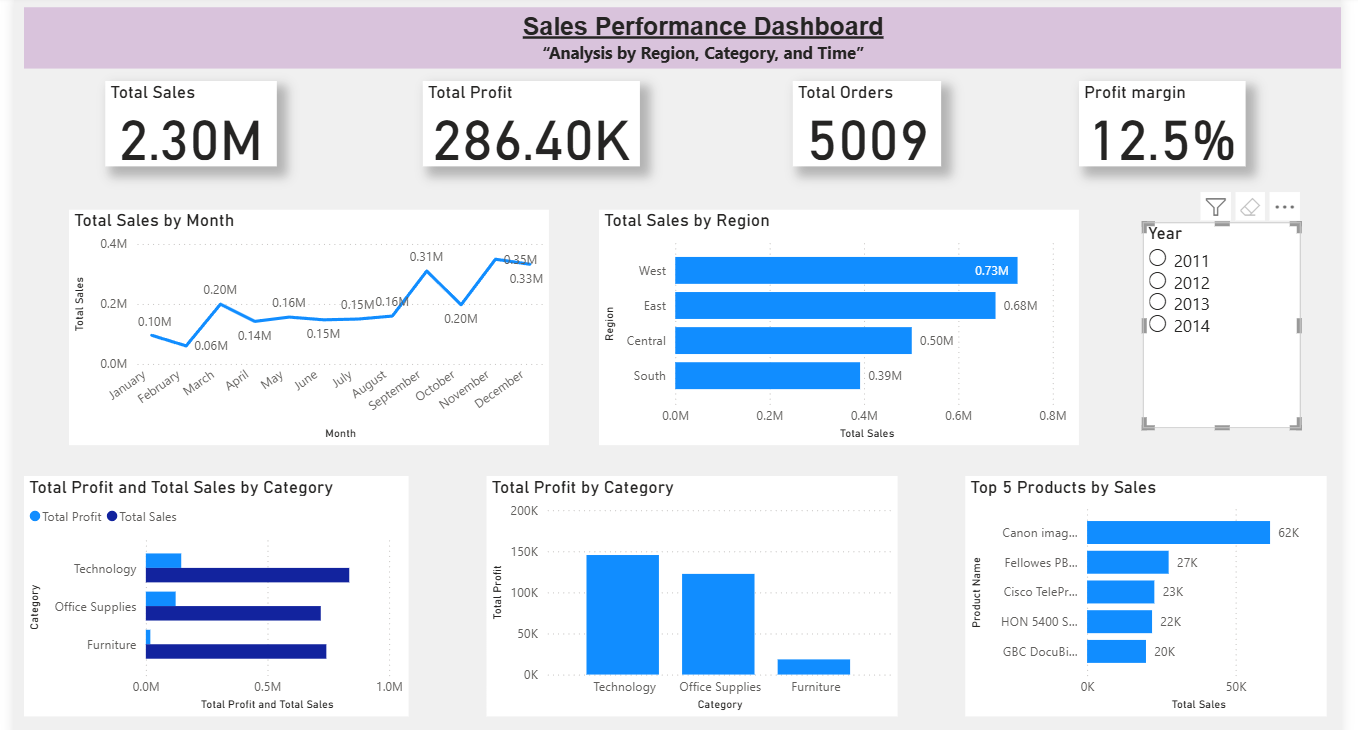

What the dashboard file says about the page in this screenshot:
{"tool":"powerbi","page":{"name":"Page 1","canvas":[1280,720],"ordinal":0},"visuals":[{"type":"textbox","box":[9.6,11,1271,59],"z":0},{"type":"card","title":"Total Orders","fields":{"Values":["Superstore.Total Orders"]},"box":[751.6,82,143.6,82],"z":1000},{"type":"card","title":"Profit margin","fields":{"Values":["Superstore.Profit Margin"]},"box":[1027.9,82,160.5,82],"z":2000},{"type":"card","title":"Total Profit","fields":{"Values":["Superstore.Total Profit"]},"box":[394.5,82,209.9,82],"z":3000},{"type":"card","title":"Total Sales","fields":{"Values":["Superstore.Total Sales"]},"box":[88.1,82,165.3,82],"z":4000},{"type":"lineChart","fields":{"Y":["Superstore.Total Sales"],"Category":["Superstore.Order Date.Variation.Date Hierarchy.Month"]},"box":[53.1,206.3,463.3,226.8],"z":5000},{"type":"clusteredBarChart","fields":{"Y":["Superstore.Total Sales"],"Category":["Superstore.Region"]},"box":[564.6,206.3,463.3,226.8],"z":6000},{"type":"clusteredBarChart","fields":{"Category":["Superstore.Category"],"Y":["Superstore.Total Profit","Superstore.Total Sales"]},"box":[9.7,463.3,371.6,231.6],"z":7000},{"type":"clusteredColumnChart","fields":{"Category":["Superstore.Category"],"Y":["Superstore.Total Profit"]},"box":[456,463.3,396.9,231.6],"z":8000},{"type":"listSlicer","fields":{"Values":["Superstore.Order Date.Variation.Date Hierarchy.Year"]},"box":[1089.4,218.4,152,199.1],"z":9000},{"type":"clusteredBarChart","title":"Top 5 Products by Sales","fields":{"Category":["Superstore.Product Name"],"Y":["Superstore.Total Sales"]},"box":[918.1,463.3,348.7,231.6],"z":10000}]}

Visuals, with their boxes on the page's 1280x720 design canvas (x1, y1, x2, y2). These are canvas units, not pixel positions in the 1358x730 screenshot, which may show the page scaled, cropped or inside an application window:
textbox: <region>10, 11, 1281, 70</region>
"Total Orders" card: <region>752, 82, 895, 164</region>
"Profit margin" card: <region>1028, 82, 1188, 164</region>
"Total Profit" card: <region>394, 82, 604, 164</region>
"Total Sales" card: <region>88, 82, 253, 164</region>
lineChart - Superstore.Total Sales x Superstore.Order Date.Variation.Date Hierarchy.Month: <region>53, 206, 516, 433</region>
clusteredBarChart - Superstore.Total Sales x Superstore.Region: <region>565, 206, 1028, 433</region>
clusteredBarChart - Superstore.Category x Superstore.Total Profit: <region>10, 463, 381, 695</region>
clusteredColumnChart - Superstore.Category x Superstore.Total Profit: <region>456, 463, 853, 695</region>
listSlicer - Superstore.Order Date.Variation.Date Hierarchy.Year: <region>1089, 218, 1241, 418</region>
"Top 5 Products by Sales" clusteredBarChart: <region>918, 463, 1267, 695</region>
